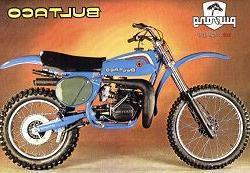motorcycle: (1, 21, 250, 173)
